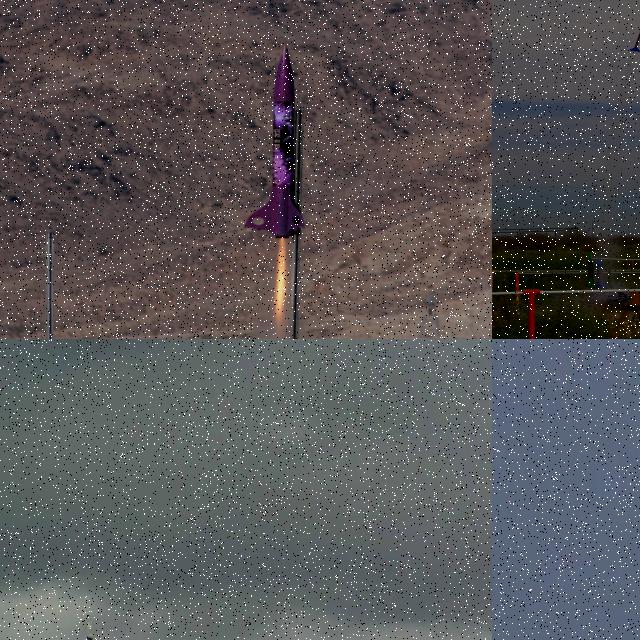Rocket: (242, 44, 306, 239), (585, 251, 597, 289), (595, 257, 607, 290), (82, 620, 100, 640), (629, 24, 640, 53), (604, 265, 614, 290)
